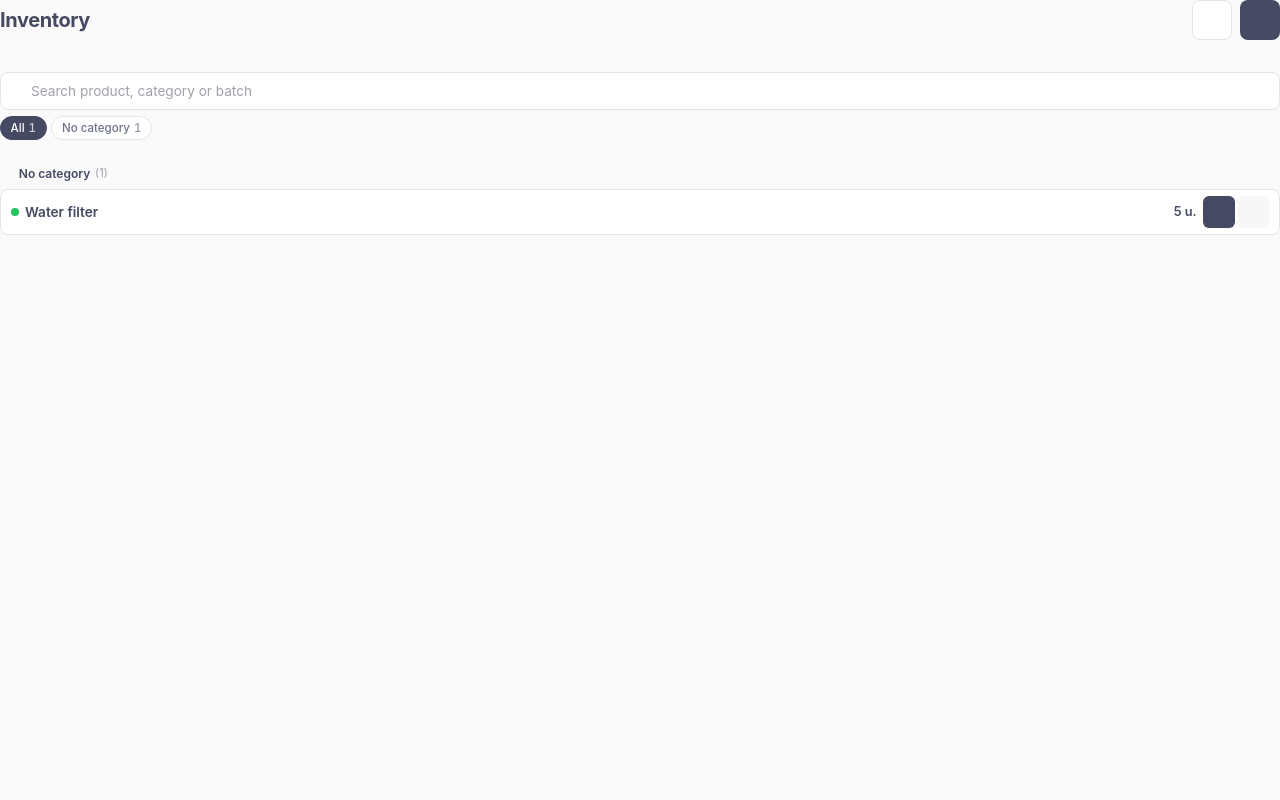
it: InventoryPage — −1 lot picker › opens LotPickerModal when the −1 button is clicked
The image size is (1280, 800).
Check: the text "Water filter" is shown, box [25, 204, 98, 220]
What coordinates should you click on to do the following:
click the button named "Consume 1 unit"
I would click on:
 (1219, 212)
Its box is [1203, 196, 1235, 228].
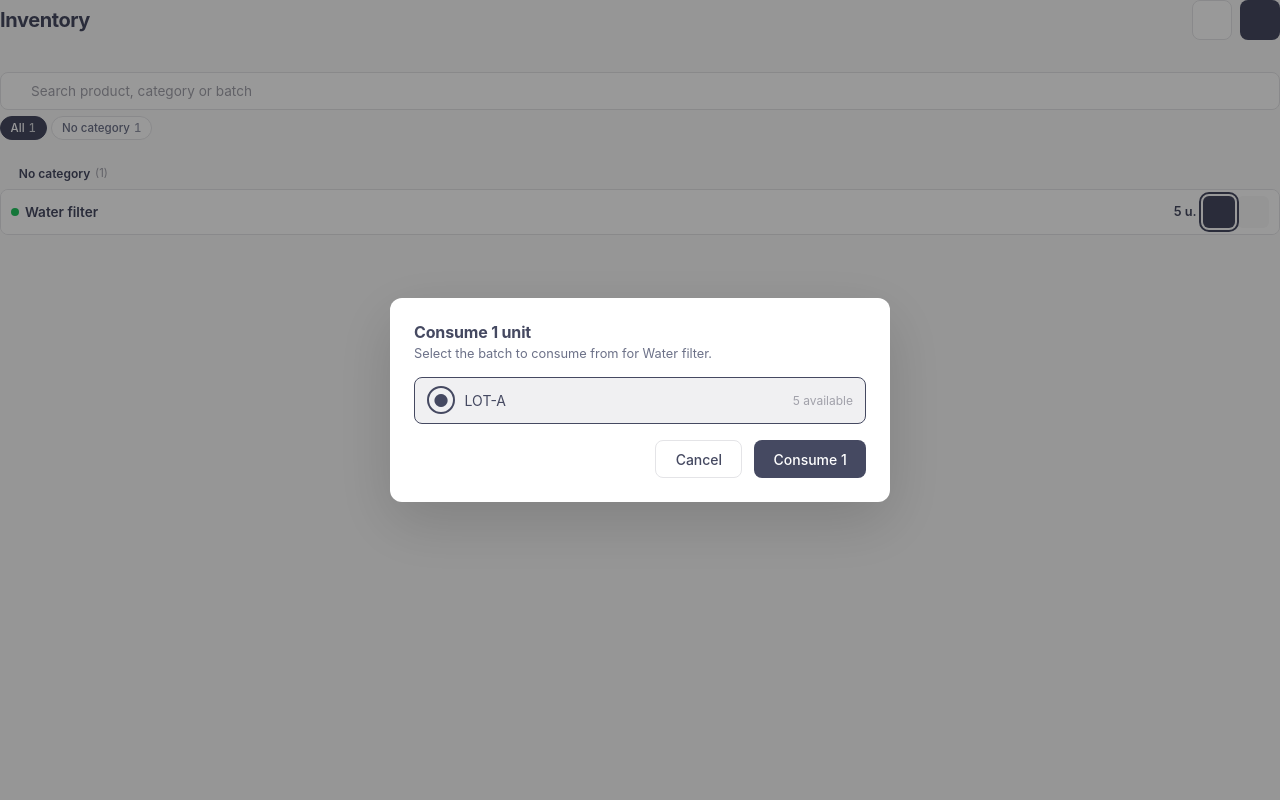
Check: the heading "Consume 1 unit" is shown, box [414, 322, 531, 342]
Check: the radio button is shown, box [414, 377, 866, 424]
